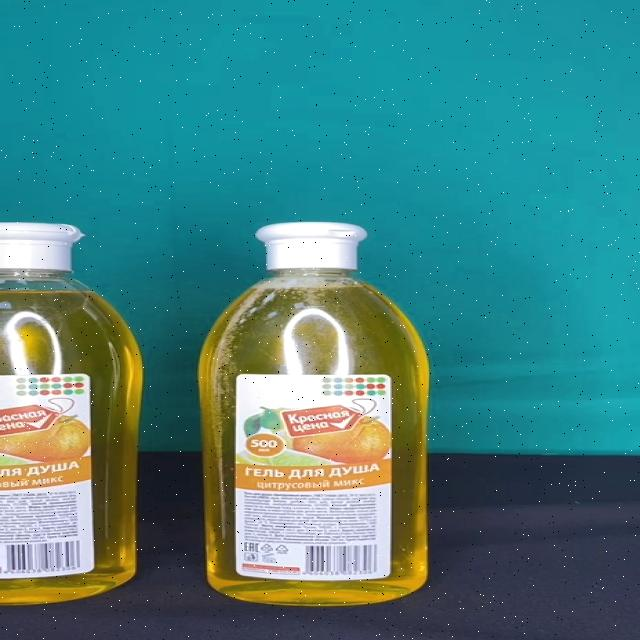Bottle: (196, 222, 430, 605)
Cap: (257, 223, 370, 270)
